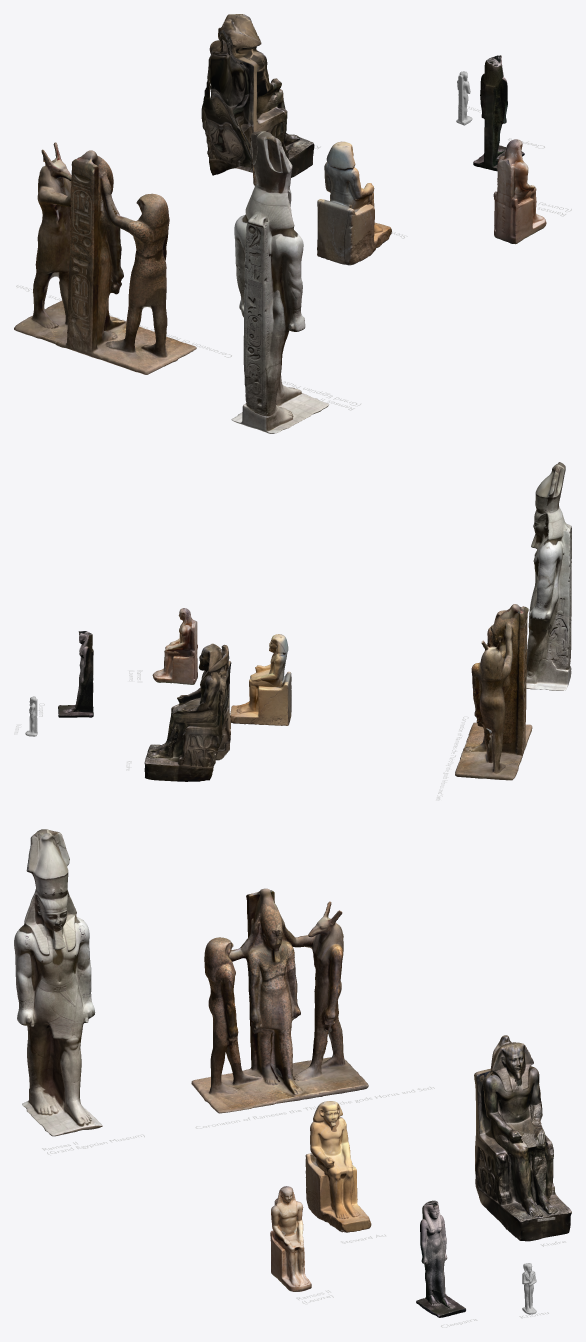
The model's file is Ancient Egypt LiDAR Pack.fbx.
The picture shows the model from 3 angles, top to bottom: view 1: azimuth 30°, elevation 25°; view 2: azimuth 150°, elevation 25°; view 3: azimuth 270°, elevation 25°; orthographic projection. The views are drawn at different scales.
Parts seen in each view (by area): view 1: Ramses_III, Ramses_II, Khafre, StewardAu, Ramses_II_Louvre, Cleopatra, Khonsu; view 2: Ramses_III, Ramses_II, Khafre, StewardAu, Ramses_II_Louvre, Cleopatra; view 3: Ramses_III, Ramses_II, Khafre, StewardAu, Ramses_II_Louvre, Cleopatra.
Part boxes in pixels (x1,y1,x2,y2): Ramses_III: (14,142,196,374); Ramses_II: (231,131,329,433); Khafre: (201,14,314,185); StewardAu: (317,141,391,265); Ramses_II_Louvre: (493,139,546,244); Cleopatra: (473,55,524,171); Khonsu: (456,71,472,125); Ramses_III: (455,604,532,780); Ramses_II: (526,462,571,690); Khafre: (144,643,231,781); StewardAu: (230,634,291,725); Ramses_II_Louvre: (152,608,197,684); Cleopatra: (58,631,93,717); Ramses_III: (191,888,368,1113); Ramses_II: (14,829,102,1136); Khafre: (474,1035,571,1241); StewardAu: (305,1101,371,1232); Ramses_II_Louvre: (270,1186,311,1291); Cleopatra: (416,1200,465,1317).
Size of the model in its own units: 590 by 286 by 517.
